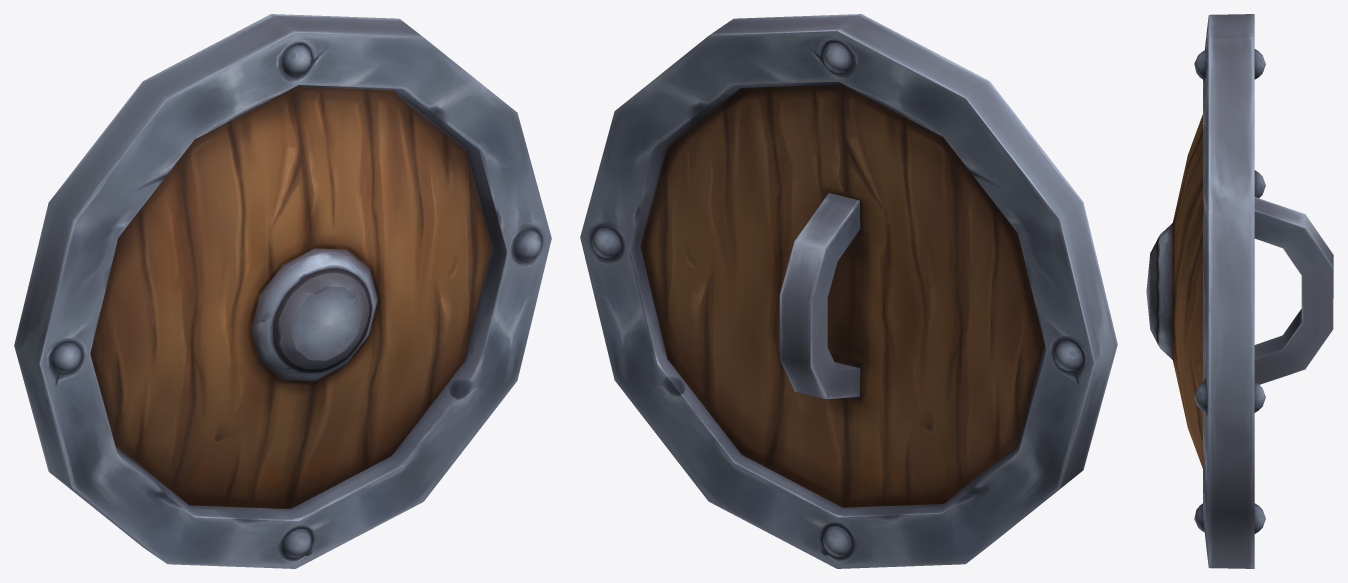
Rendered from PlayerMale_Weapon_Shield.FBX.
3 views of the same model, side by side, from view 1: azimuth 30°, elevation 25°; view 2: azimuth 150°, elevation 25°; view 3: azimuth 270°, elevation 25° (orthographic). The views are drawn at different scales.
Visible parts, largest first — view 1: Weapon02; view 2: Weapon02; view 3: Weapon02.
Boxes of the visible parts, <box> form: Weapon02: <box>14,14,551,568</box>; Weapon02: <box>580,14,1117,568</box>; Weapon02: <box>1146,14,1333,568</box>.
Size of the model in its own units: 60.87 by 60.87 by 20.45.
